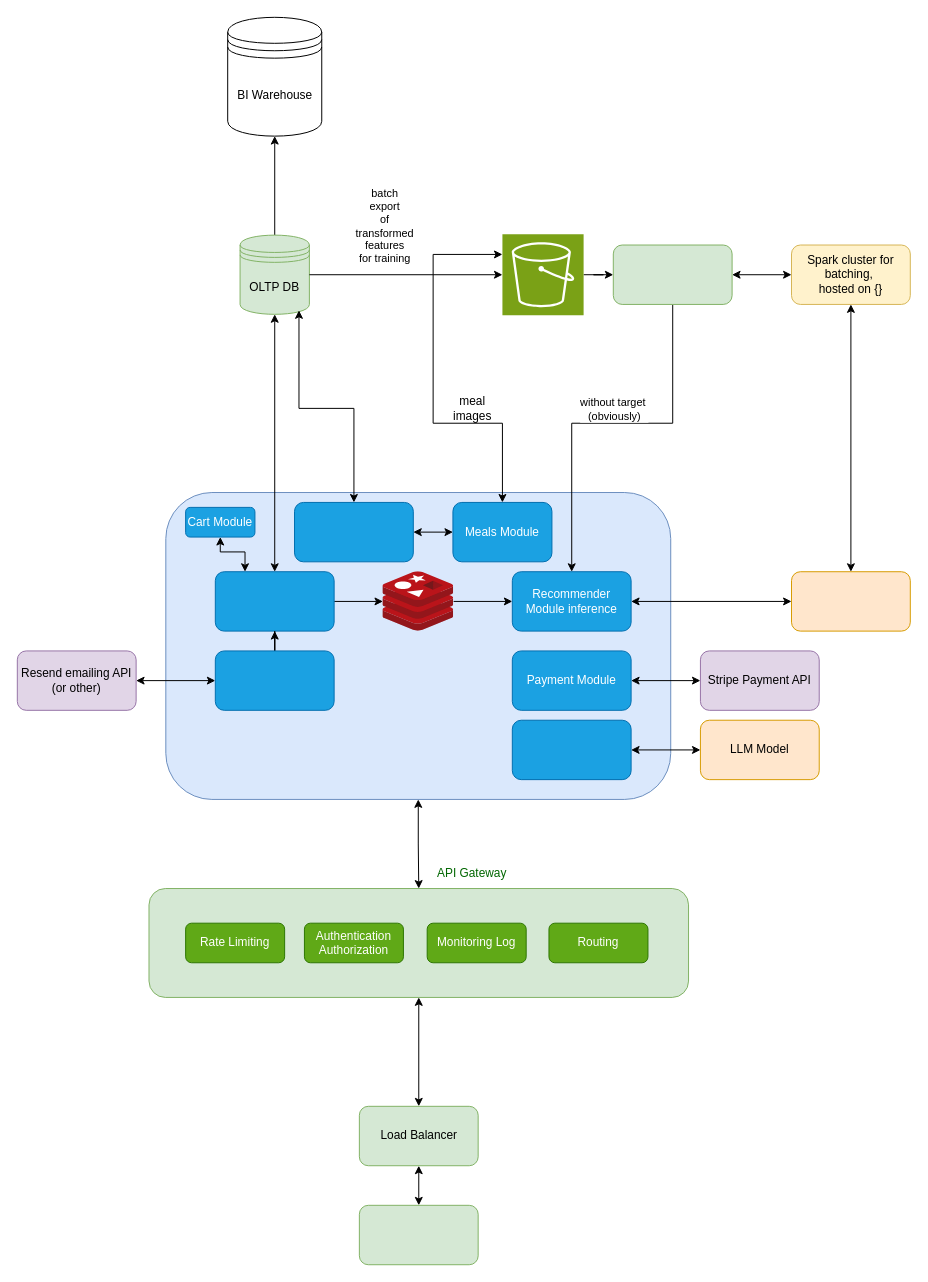
This 928x1282 diagram has some shape labels left out. The shapes that lost their labels are listed below. From the top down, each one's centre as x and y in pixels, then its label:
At (672,274): "Training Dataset".
At (353,531): "Restaurant CRUD Module".
At (274,601): "Orders Module".
At (417,601): "Redis Cache".
At (850,601): "Recommender ML Model".
At (274,680): "Email Notifications Module".
At (571,749): "Agent Runtime Module".
At (418,1234): "Client".
